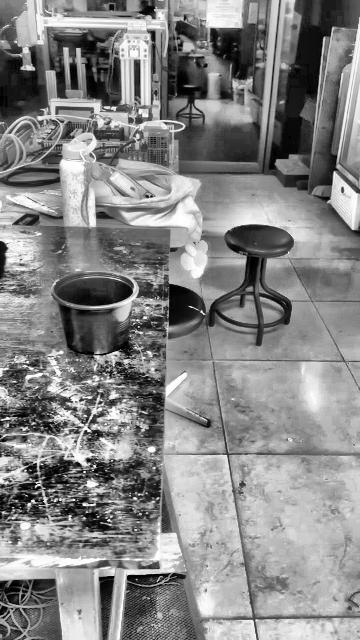pot: (52, 272, 135, 353)
